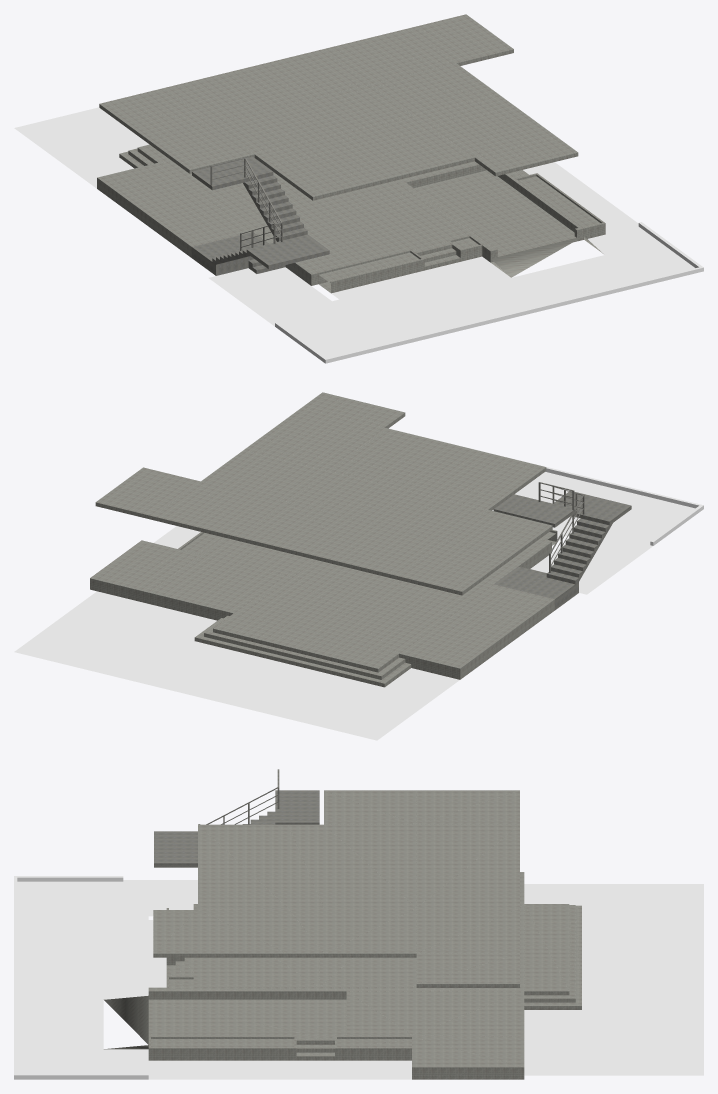
File: foundation.obj
The picture shows the model from 3 angles, top to bottom: view 1: azimuth 30°, elevation 25°; view 2: azimuth 150°, elevation 25°; view 3: azimuth 270°, elevation 25°; orthographic projection. The views are drawn at different scales.
Parts seen in each view (by area): view 1: floor; view 2: floor; view 3: floor.
Part boxes in pixels (x1,y1,x2,y2): floor: [14, 14, 703, 363]; floor: [14, 392, 703, 740]; floor: [14, 769, 703, 1079].
Bounding box in the file's own units: 14.03 × 3.76 × 20.51.
Materials: 3 (2 with a texture image).
